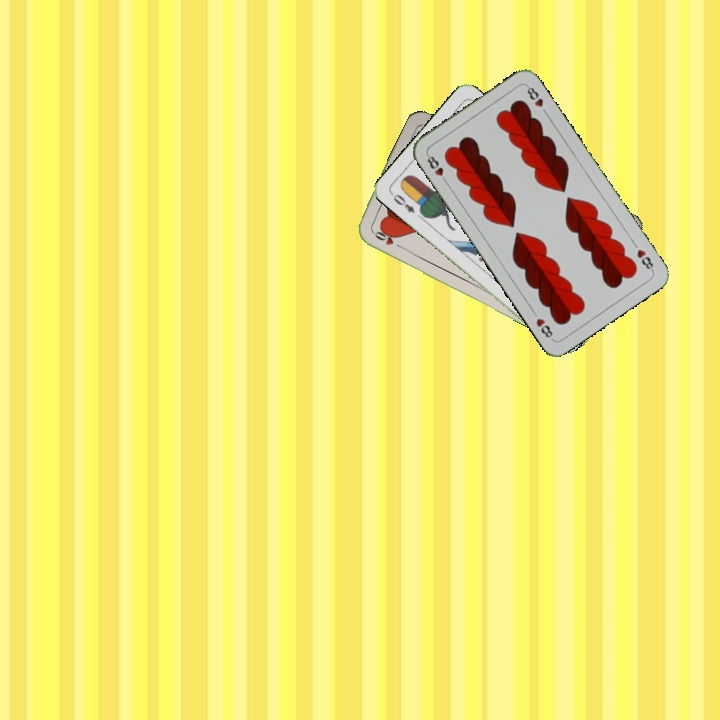EO: (389, 190, 417, 216)
H8: (423, 150, 450, 186), (633, 245, 656, 274)
HO: (368, 227, 405, 251)
